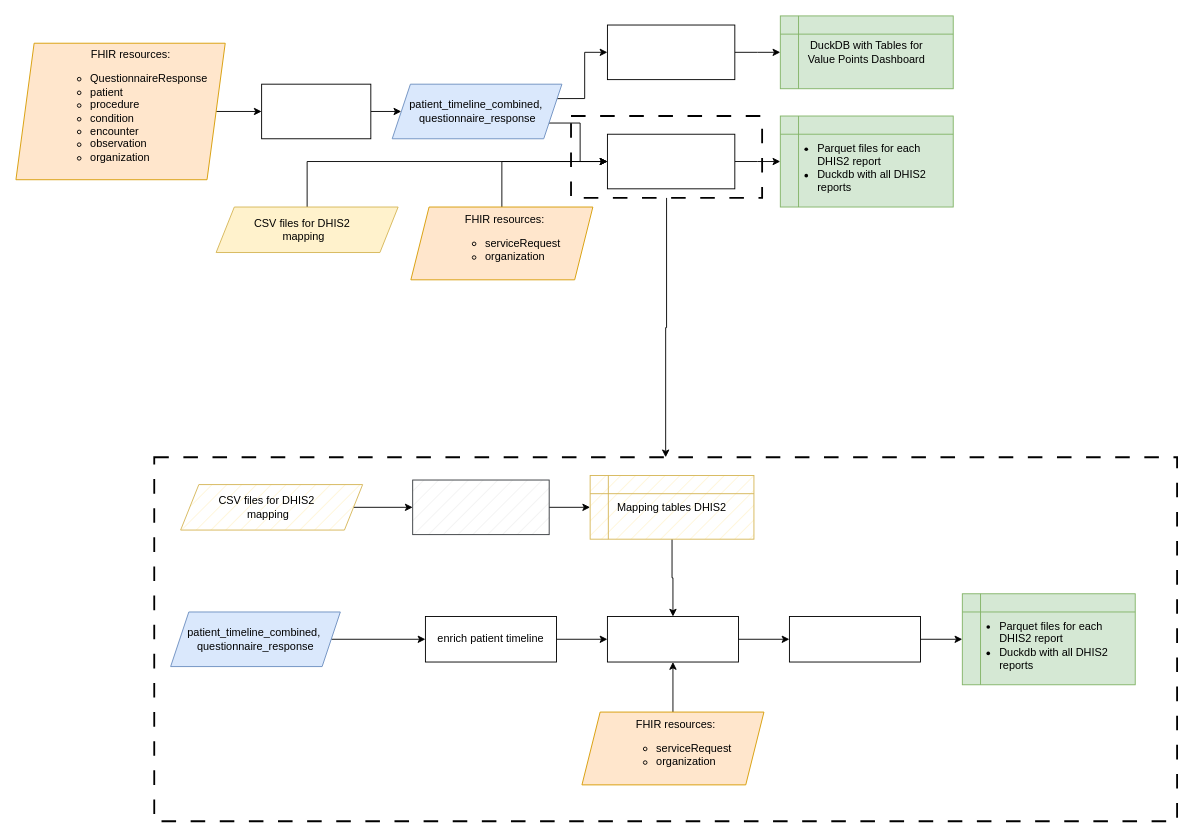
This 1194x838 diagram has some shape labels left out. Each missing label, with the box of its shape:
Base Reporter: (261, 83, 371, 139)
connect DHIS2 topics to patient timeline and questionnaire response: (607, 616, 738, 662)
create DHIS2 report: (789, 616, 920, 662)
DHIS2 Reporter: (607, 133, 735, 189)
prepare mapping tables: (412, 479, 549, 535)
Value Points Reporter: (607, 24, 735, 80)
